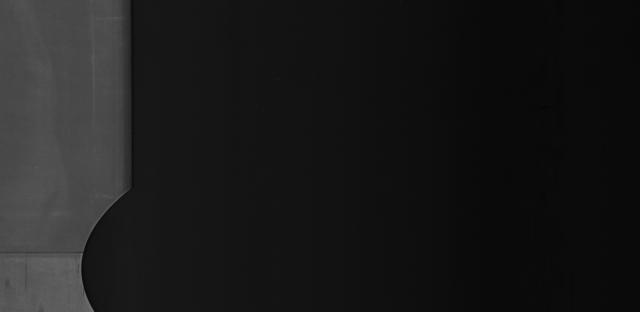crescent_gap: (68, 176, 147, 310)
welding_line: (2, 234, 114, 262)
